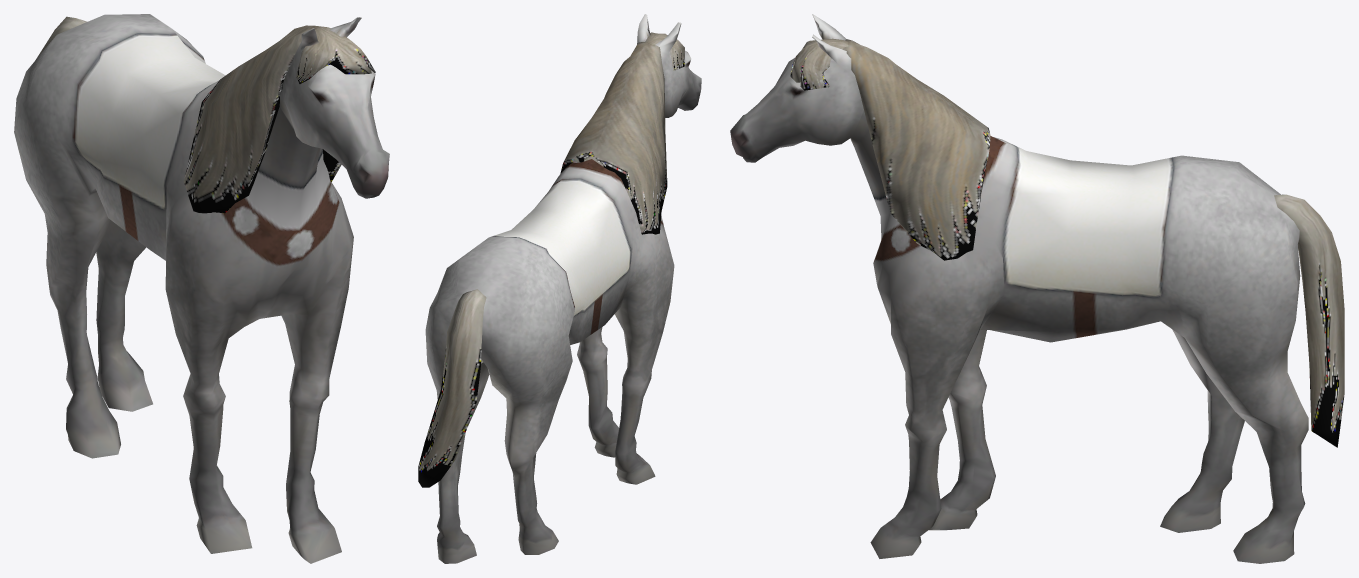
Rendered from body-base.glb.
3 renders of one model, left to right at view 1: azimuth 30°, elevation 25°; view 2: azimuth 150°, elevation 25°; view 3: azimuth 270°, elevation 25°, orthographic. The views are drawn at different scales.
Bounding box in the file's own units: 0.7855 × 2.5 × 2.7.
Materials: 1 (1 with a texture image).
